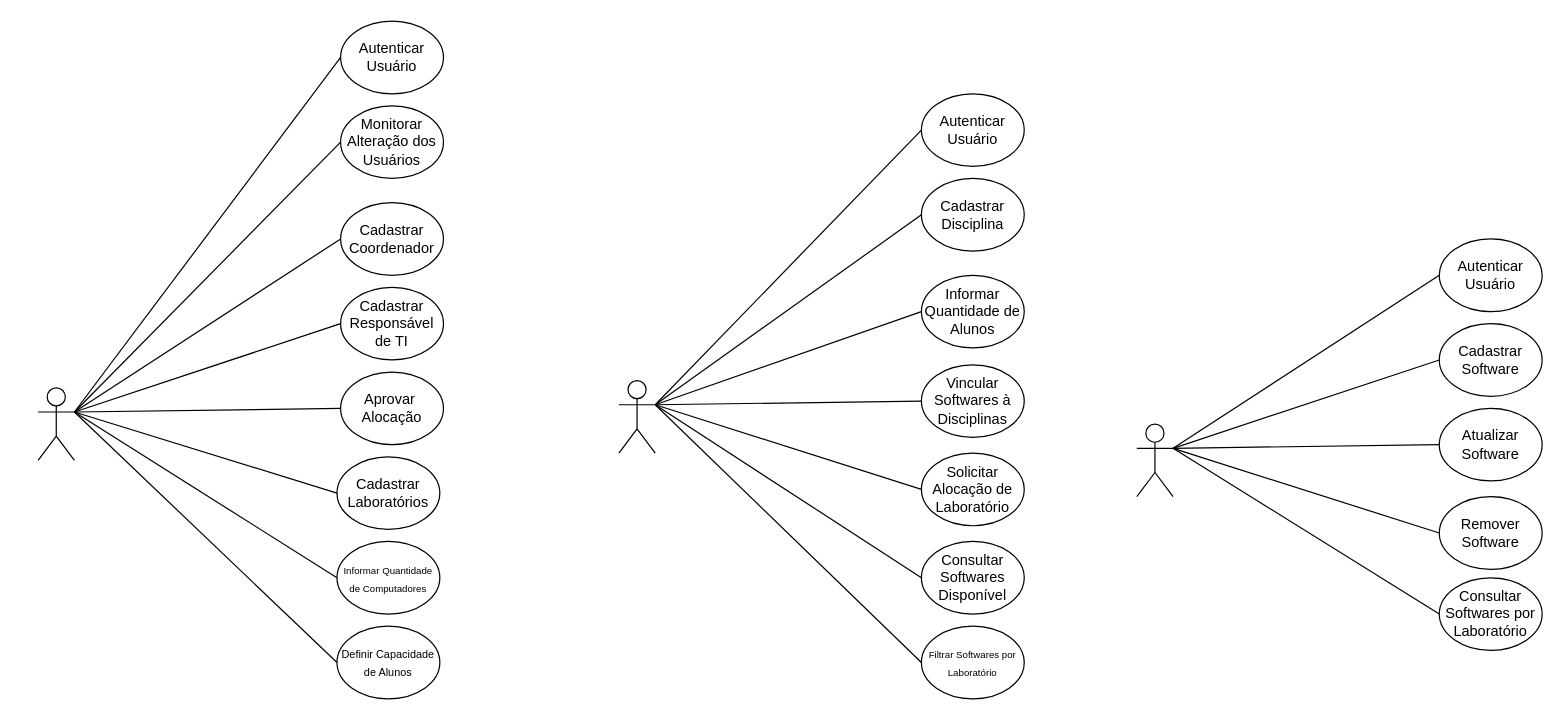
Some shapes in this 1563 by 720 pixel diagram are drawn without their labels. The shapes that lost their labels are listed below. From the top down, each one's centre as x and y in pixels, then its label:
At point 55,423: "Diretor Acadêmico".
At point 636,416: "Coordenador".
At point 1154,460: "Responsável de TI".
